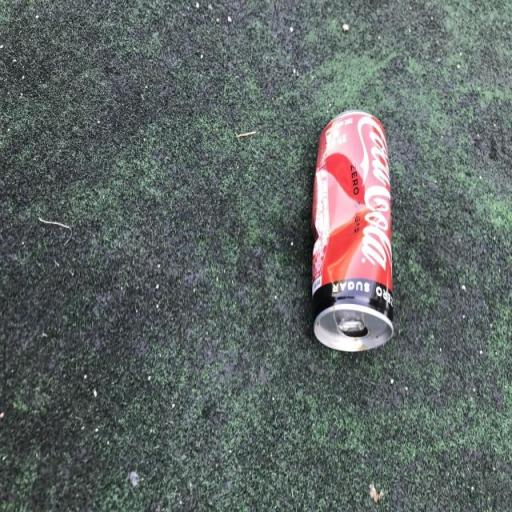metal: (303, 102, 407, 373)
